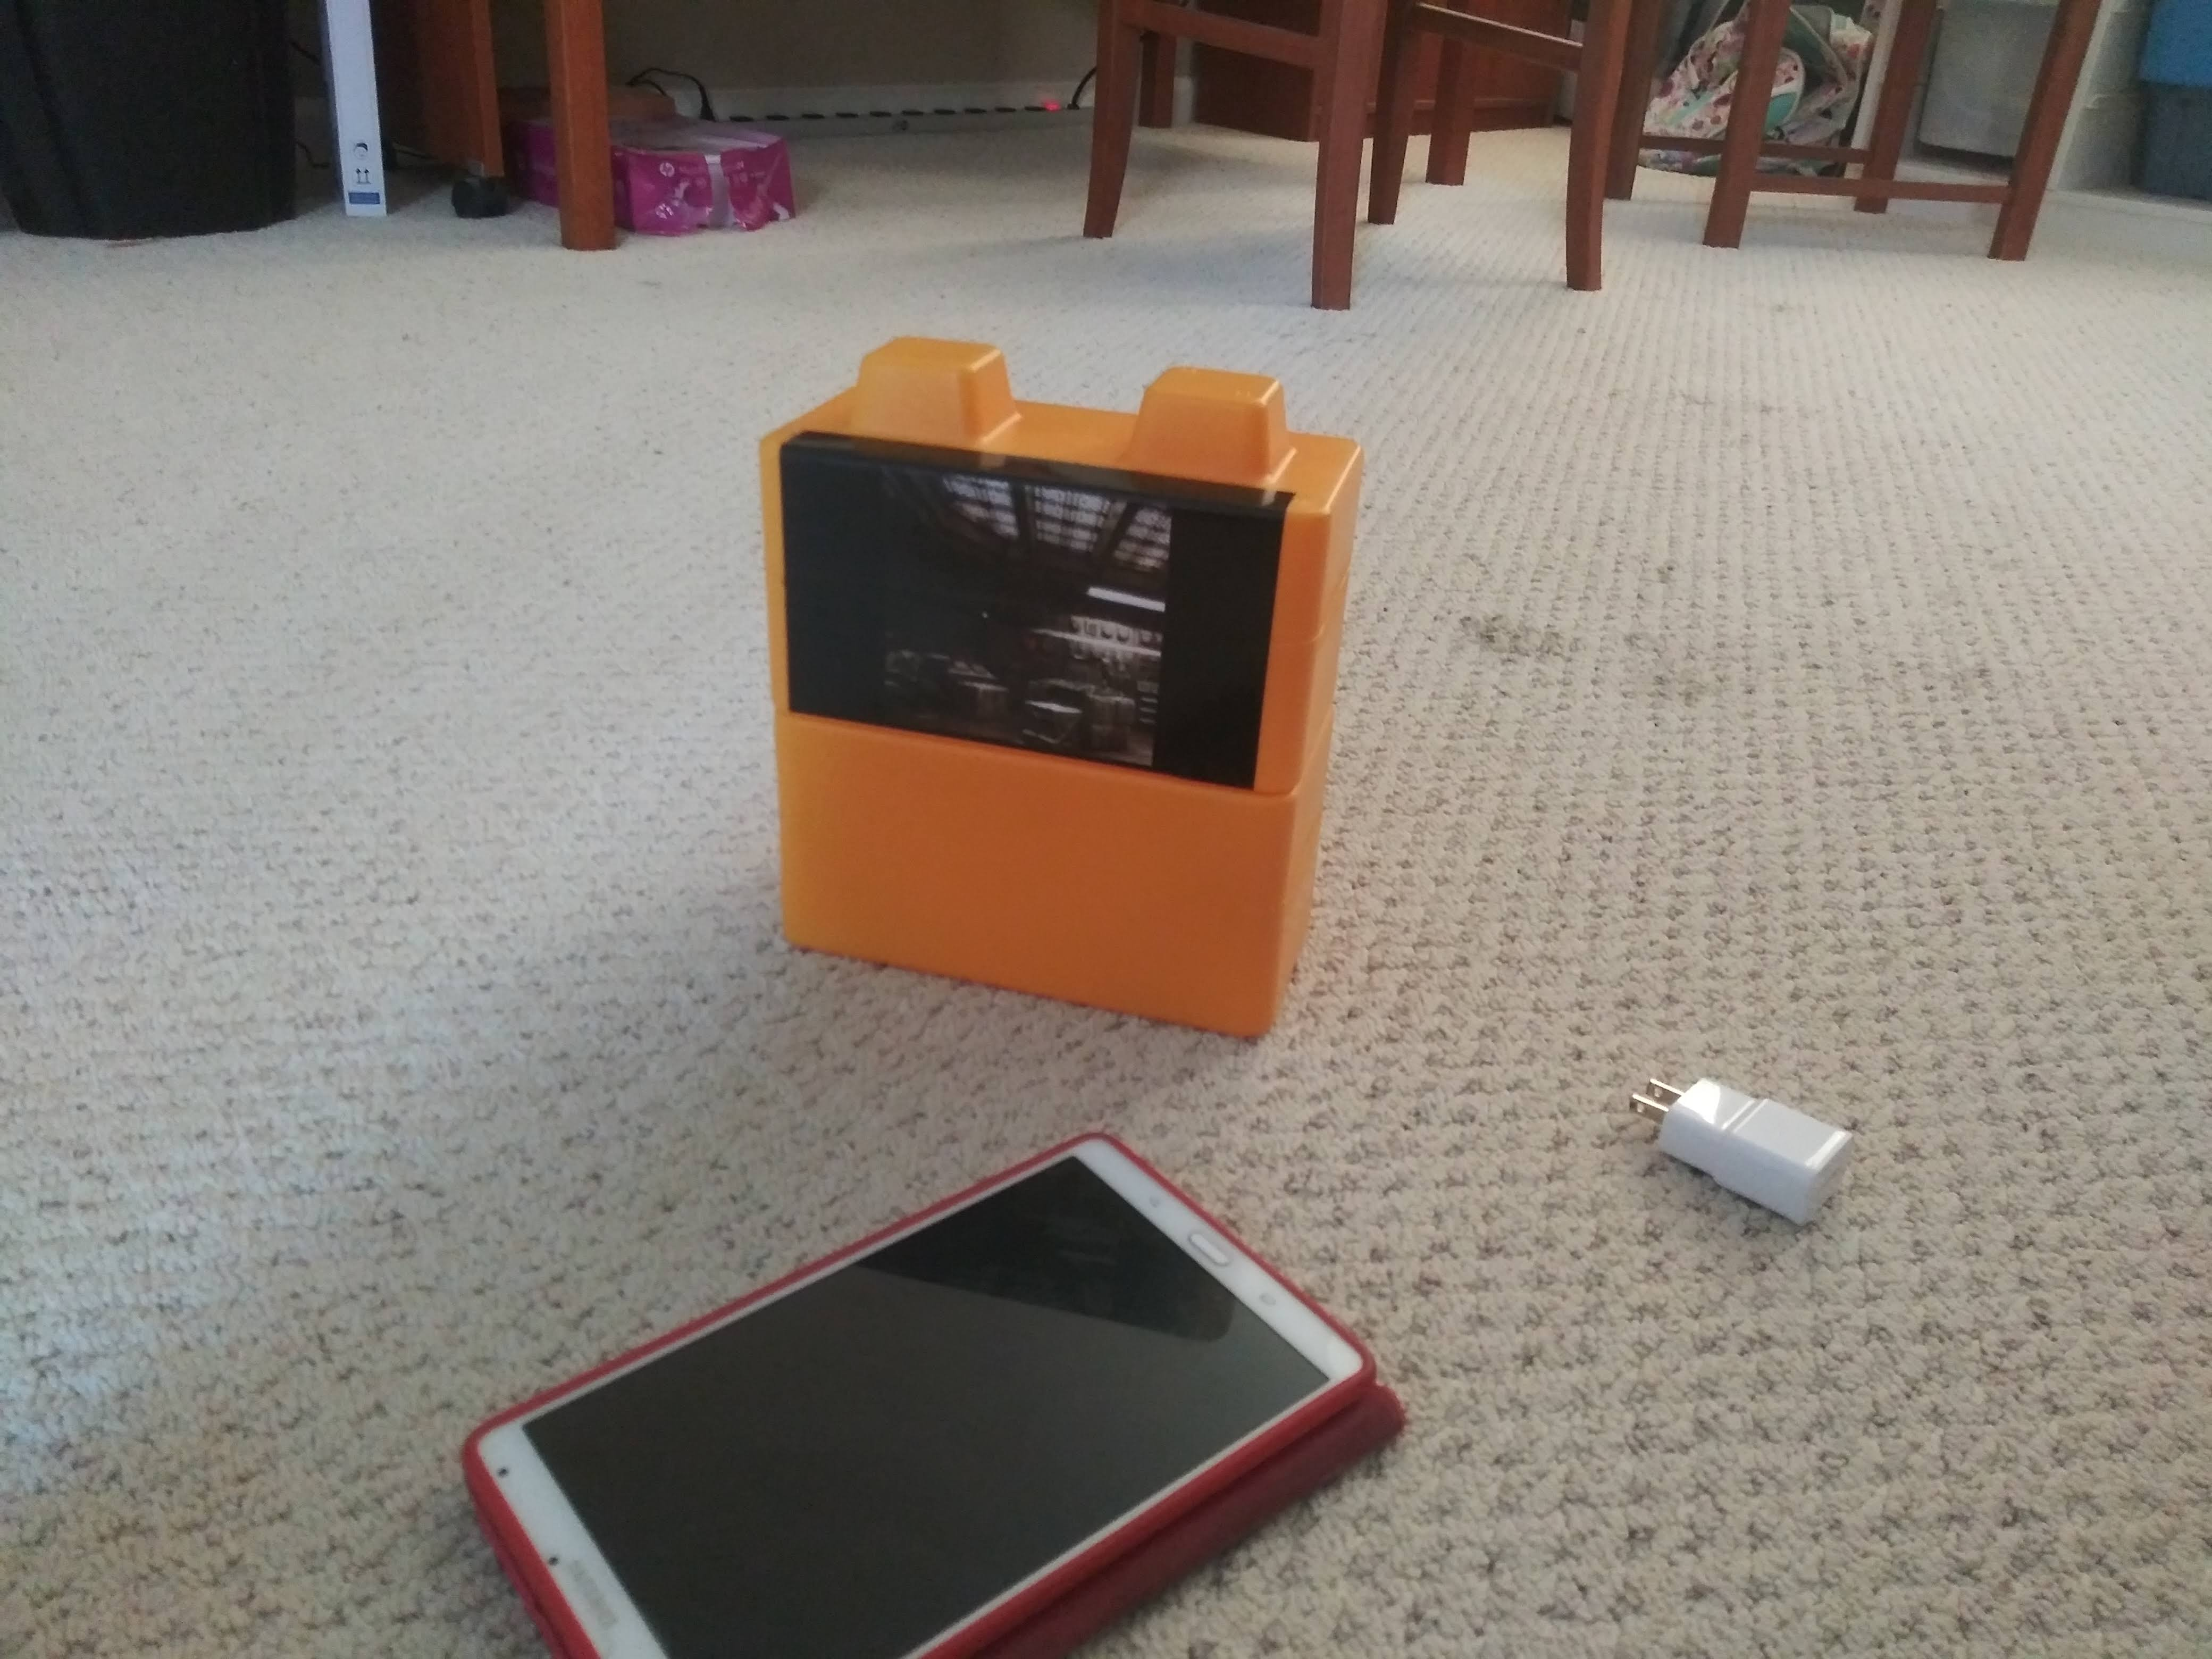skystone: (737, 376, 1339, 775)
stone: (751, 760, 1322, 1039)
